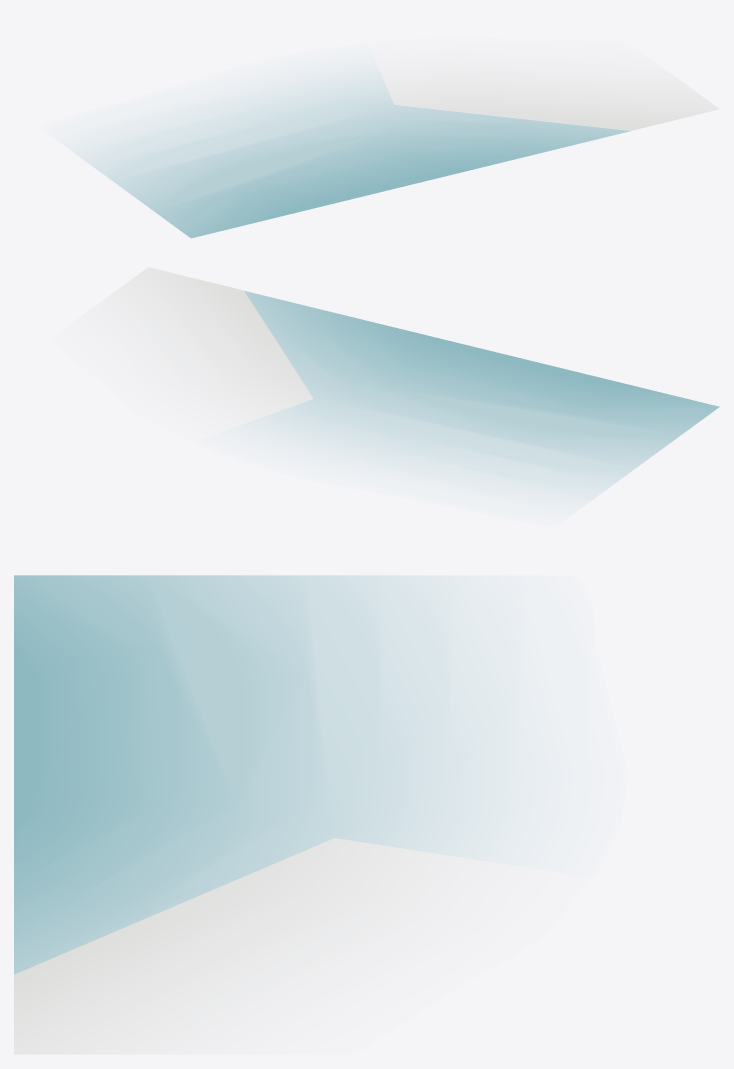
3 views of the same model, one above another, from view 1: azimuth 30°, elevation 25°; view 2: azimuth 150°, elevation 25°; view 3: azimuth 270°, elevation 25° (orthographic). The views are drawn at different scales.
Parts seen in each view (by area): view 1: city; view 2: city; view 3: city.
Part boxes in pixels (<box>): city: <box>79,67,718,238</box>; city: <box>99,267,719,495</box>; city: <box>14,575,501,1054</box>.
Bounding box in the file's own units: 500 × 0.18 × 311.
